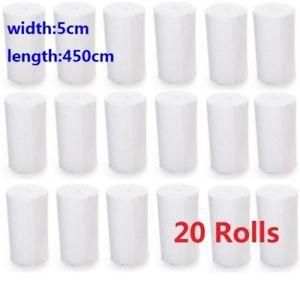bandage: (206, 182, 253, 269), (156, 182, 202, 270), (52, 1, 99, 85), (53, 92, 101, 174), (55, 183, 100, 270), (2, 91, 48, 174), (106, 182, 149, 269), (207, 92, 252, 175), (254, 90, 297, 176), (4, 2, 48, 86), (156, 91, 200, 175), (153, 2, 198, 84), (257, 183, 299, 270), (7, 185, 50, 269), (206, 4, 249, 87), (255, 3, 298, 85), (104, 94, 148, 174), (102, 3, 145, 82)
